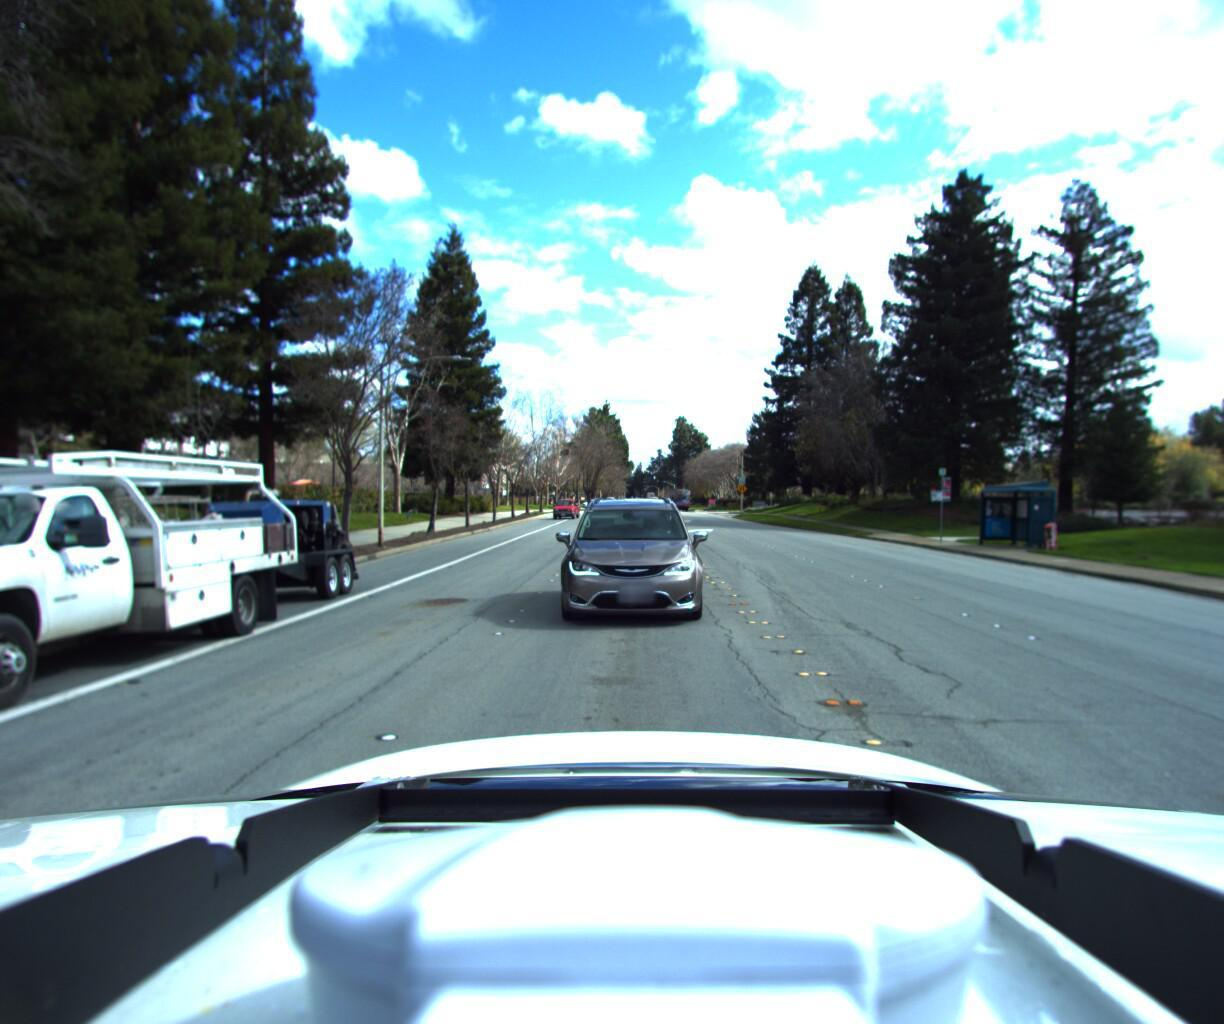car: (552, 486, 715, 637), (549, 507, 580, 528)
truck: (0, 424, 401, 780)
